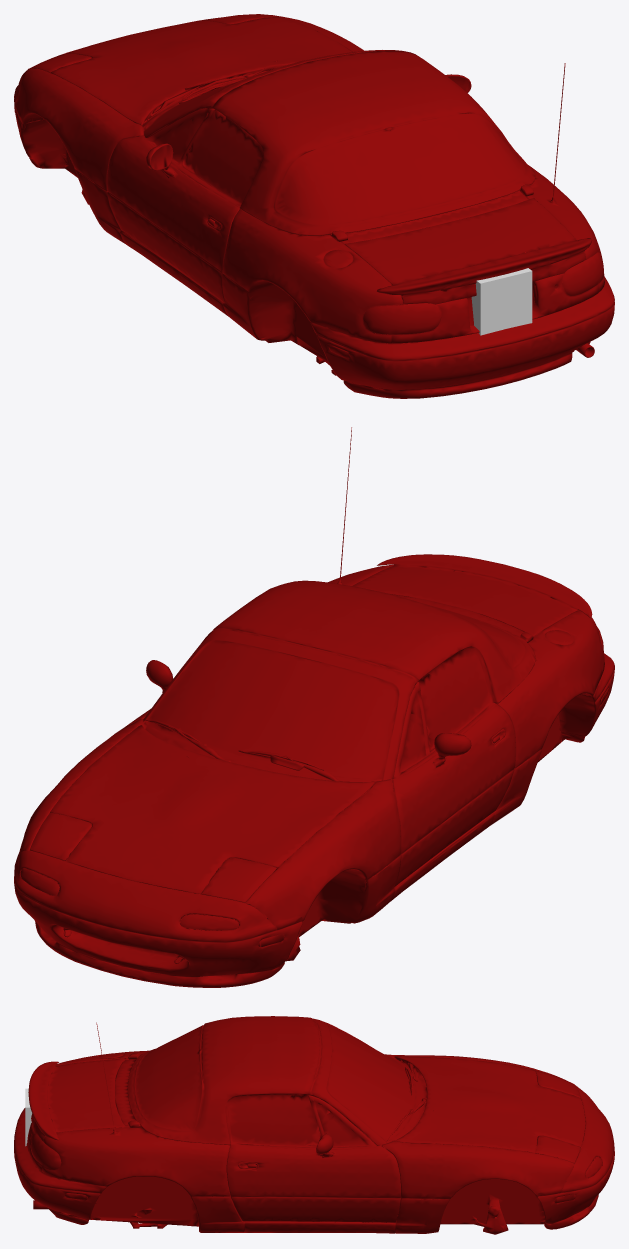
File: miatanowheels3.glb
3 views of the same model, one above another, from view 1: azimuth 30°, elevation 25°; view 2: azimuth 150°, elevation 25°; view 3: azimuth 270°, elevation 25° (orthographic). The views are drawn at different scales.
Parts seen in each view (by area): view 1: REMOVEDWHEELS1TO1SCALEMIATA, Cube; view 2: REMOVEDWHEELS1TO1SCALEMIATA; view 3: REMOVEDWHEELS1TO1SCALEMIATA.
Boxes of the visible parts, <box> form: REMOVEDWHEELS1TO1SCALEMIATA: <box>14,14,614,398</box>; Cube: <box>471,268,532,335</box>; REMOVEDWHEELS1TO1SCALEMIATA: <box>14,427,614,987</box>; REMOVEDWHEELS1TO1SCALEMIATA: <box>14,1016,614,1234</box>.
Bounding box in the file's own units: 74.18 × 62.97 × 161.
